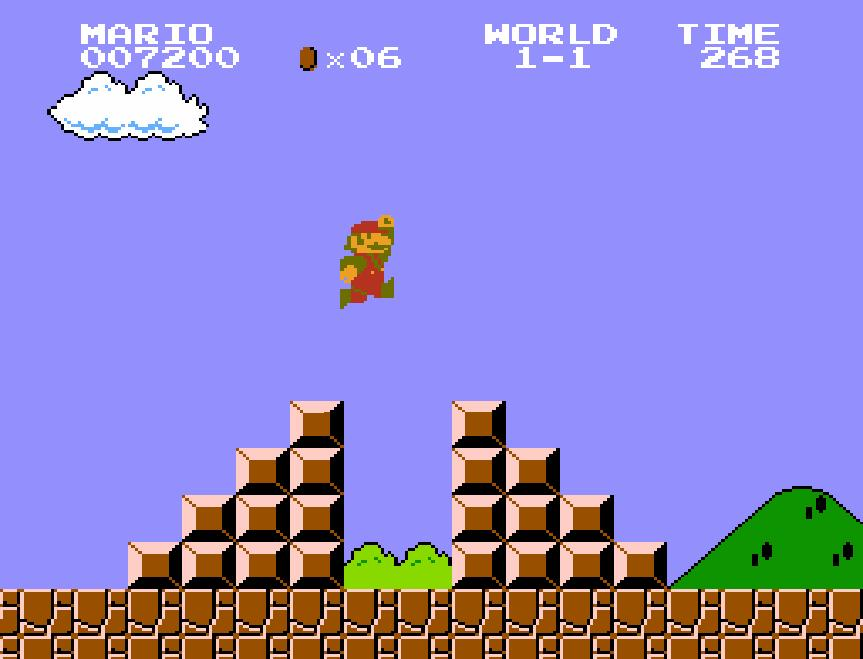big_mario: (338, 212, 396, 310)
